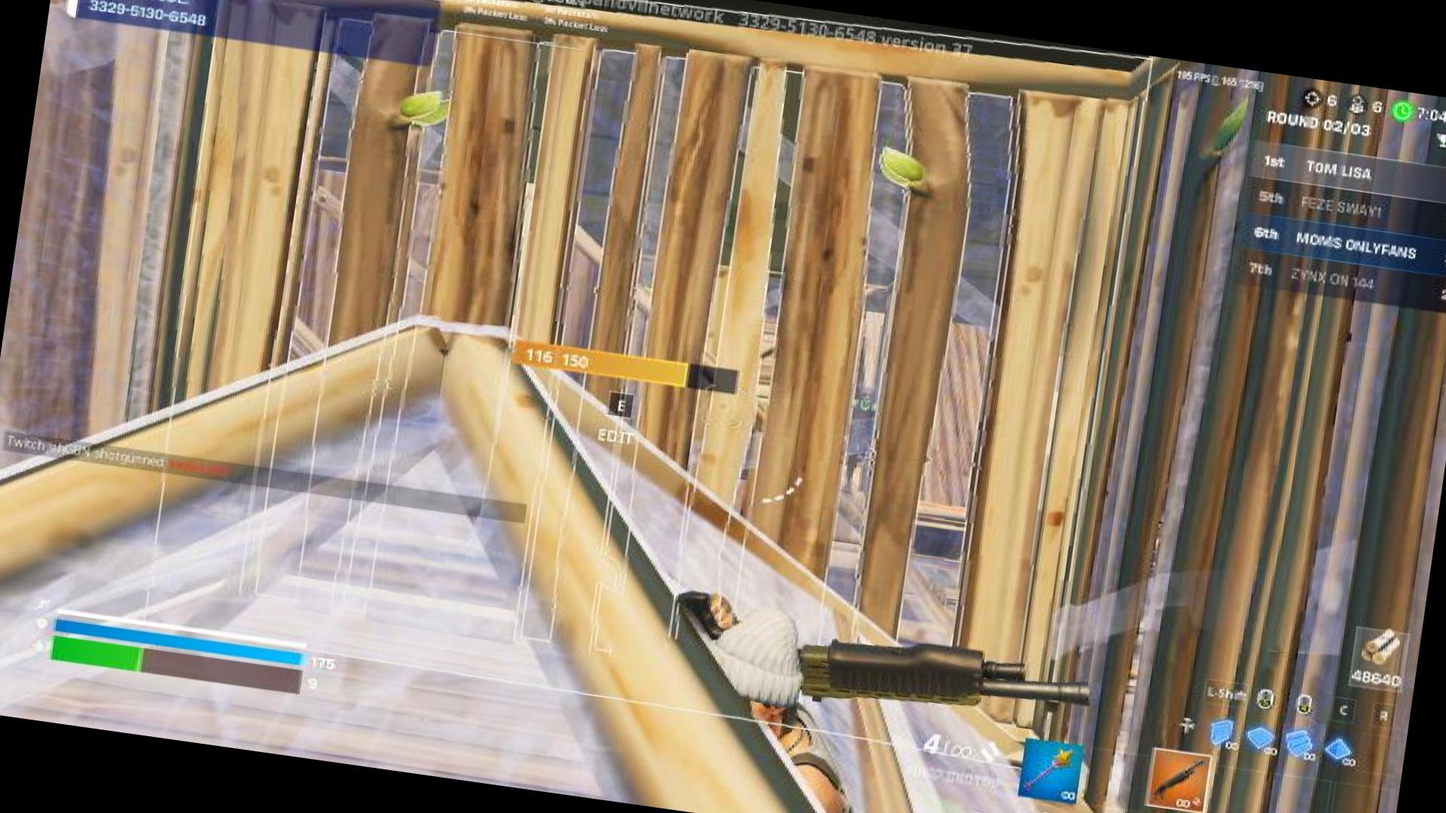player: (632, 588, 904, 813), (831, 382, 898, 497)
